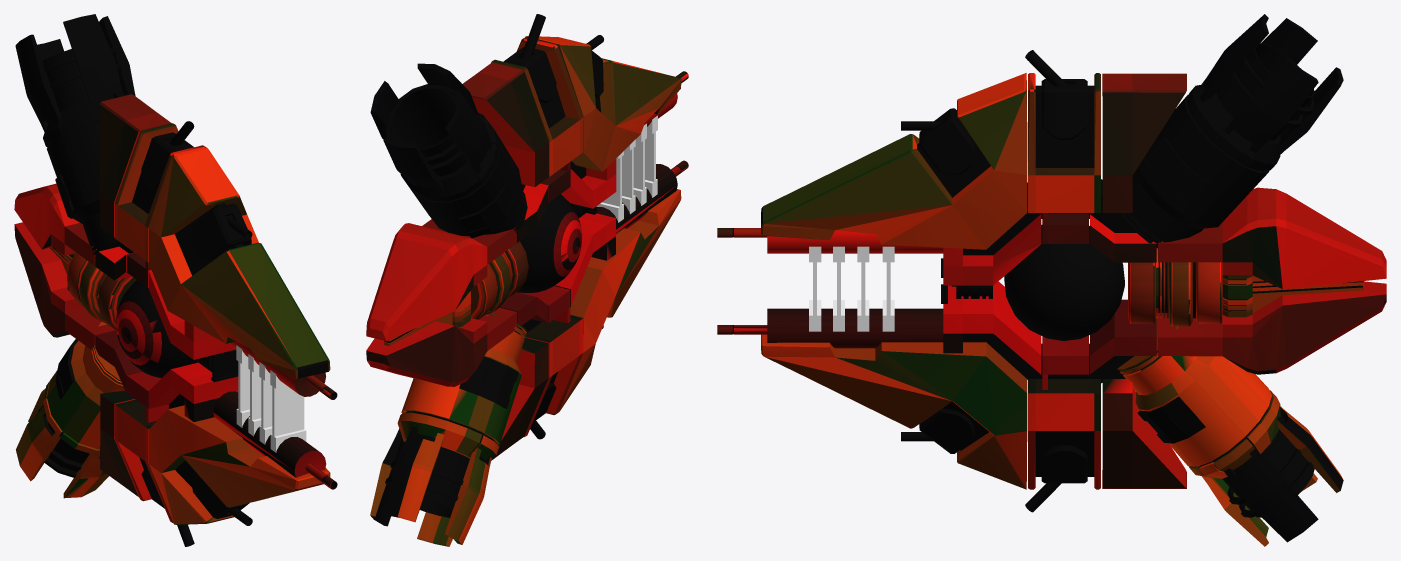
Rendered from big-core-mk1_2_2.FBX.
The picture shows the model from 3 angles, left to right: view 1: azimuth 30°, elevation 25°; view 2: azimuth 150°, elevation 25°; view 3: azimuth 270°, elevation 25°; orthographic projection. The views are drawn at different scales.
Visible parts, largest first — view 1: Armor, Weapon, Core, Shield_01, Shield_04, Shield_02, Shield_03; view 2: Armor, Weapon, Core, Shield_02, Shield_01, Shield_03, Shield_04; view 3: Armor, Weapon, Core, Shield_03, Shield_04.
Boxes of the visible parts, box(x1,y1,x2,y2) form: Armor: box(14, 94, 330, 524); Weapon: box(15, 14, 337, 546); Core: box(115, 280, 198, 378); Shield_01: box(270, 370, 306, 452); Shield_04: box(236, 345, 249, 427); Shield_02: box(259, 362, 272, 444); Shield_03: box(248, 354, 261, 436); Armor: box(366, 36, 681, 460); Weapon: box(370, 14, 688, 546); Core: box(517, 194, 582, 292); Shield_02: box(633, 123, 646, 205); Shield_01: box(645, 115, 657, 197); Shield_03: box(622, 139, 635, 214); Shield_04: box(596, 151, 623, 222); Armor: box(761, 73, 1386, 489); Weapon: box(717, 14, 1363, 546); Core: box(1004, 225, 1124, 340); Shield_03: box(857, 246, 869, 331); Shield_04: box(882, 246, 894, 331).
Bounding box in the file's own units: 62.87 × 298 × 347.
